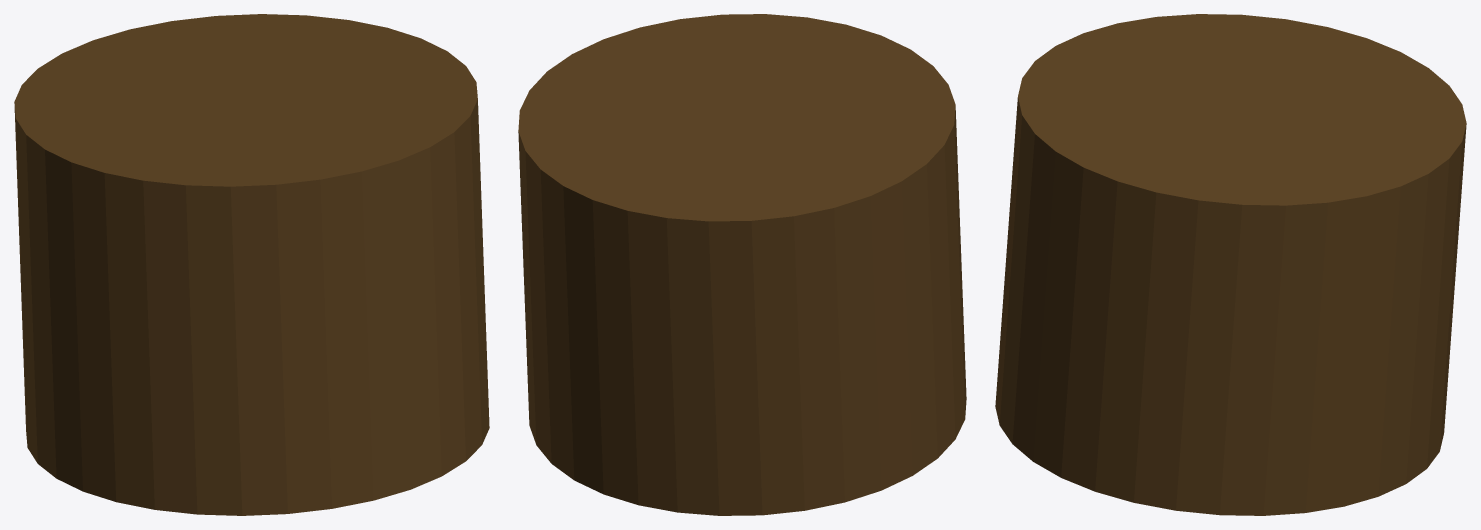
Rendered from left_shoulder_x_link_visual_5.obj.
3 views of the same model, side by side, from view 1: azimuth 30°, elevation 25°; view 2: azimuth 150°, elevation 25°; view 3: azimuth 270°, elevation 25° (orthographic). The views are drawn at different scales.
Visible parts, largest first — view 1: i01..leftArm.shoulder.full.006_visual.001; view 2: i01..leftArm.shoulder.full.006_visual.001; view 3: i01..leftArm.shoulder.full.006_visual.001.
Boxes of the visible parts, <box> form: i01..leftArm.shoulder.full.006_visual.001: <box>14,14,489,515</box>; i01..leftArm.shoulder.full.006_visual.001: <box>518,14,966,515</box>; i01..leftArm.shoulder.full.006_visual.001: <box>995,14,1466,515</box>.
Bounding box in the file's own units: 0.0716 × 0.0592 × 0.075.
